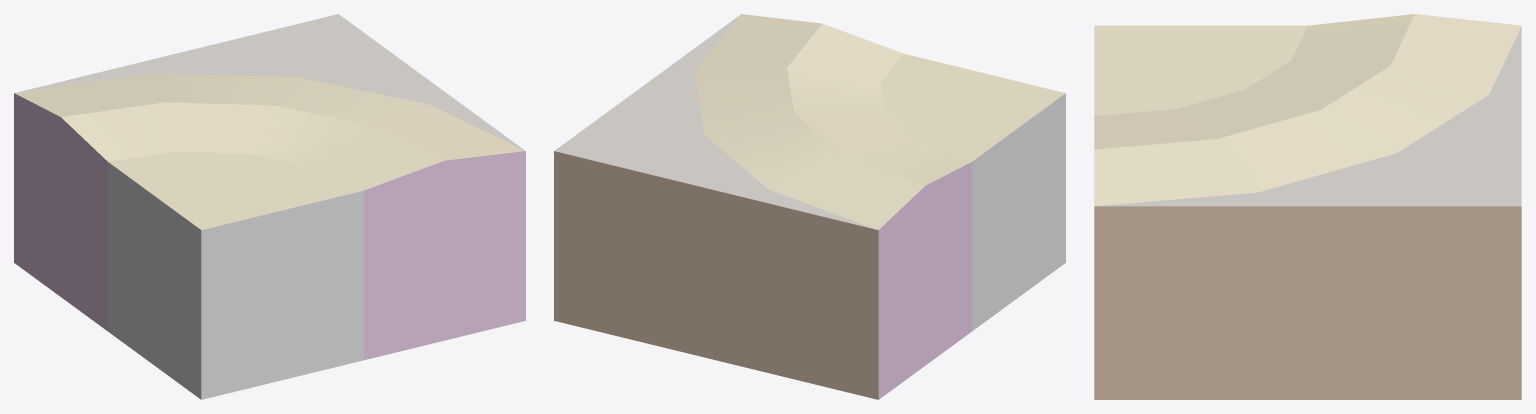
The model's file is Tiered_Walkway_Path_Transition_Curve_Outer_2x2.glb.
3 renders of one model, left to right at view 1: azimuth 30°, elevation 25°; view 2: azimuth 150°, elevation 25°; view 3: azimuth 270°, elevation 25°, orthographic. The views are drawn at different scales.
Parts seen in each view (by area): view 1: Tiered_Walkway_Path_Transition_Curve_Outer_2x2; view 2: Tiered_Walkway_Path_Transition_Curve_Outer_2x2; view 3: Tiered_Walkway_Path_Transition_Curve_Outer_2x2.
Part boxes in pixels (x1,y1,x2,y2): Tiered_Walkway_Path_Transition_Curve_Outer_2x2: [14, 14, 525, 399]; Tiered_Walkway_Path_Transition_Curve_Outer_2x2: [554, 14, 1065, 399]; Tiered_Walkway_Path_Transition_Curve_Outer_2x2: [1094, 14, 1521, 399].
Bounding box in the file's own units: 200 × 106 × 200.
